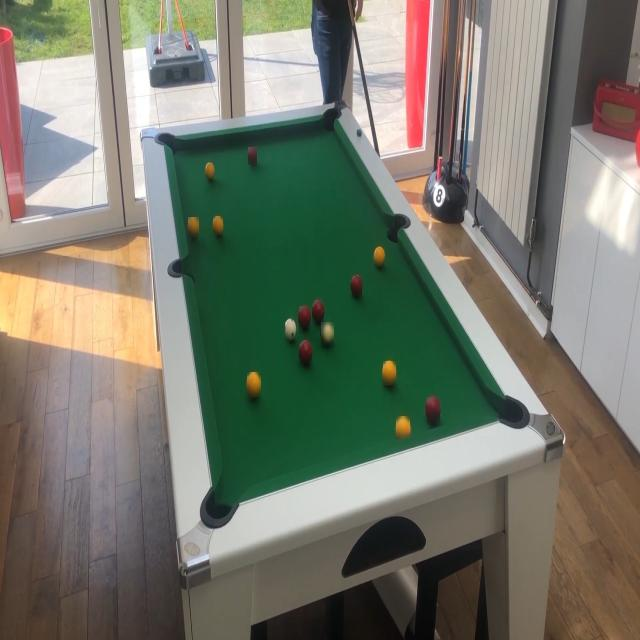Ball: (247, 372, 261, 397), (321, 322, 334, 348), (427, 397, 440, 422), (383, 361, 396, 385), (396, 416, 410, 438), (299, 340, 312, 363), (286, 318, 298, 340), (312, 300, 324, 322), (299, 306, 310, 327), (188, 218, 199, 238), (213, 216, 223, 237), (352, 277, 362, 297), (375, 247, 385, 266), (205, 162, 215, 180), (248, 147, 257, 165)
Billiard table: (140, 100, 567, 588)
